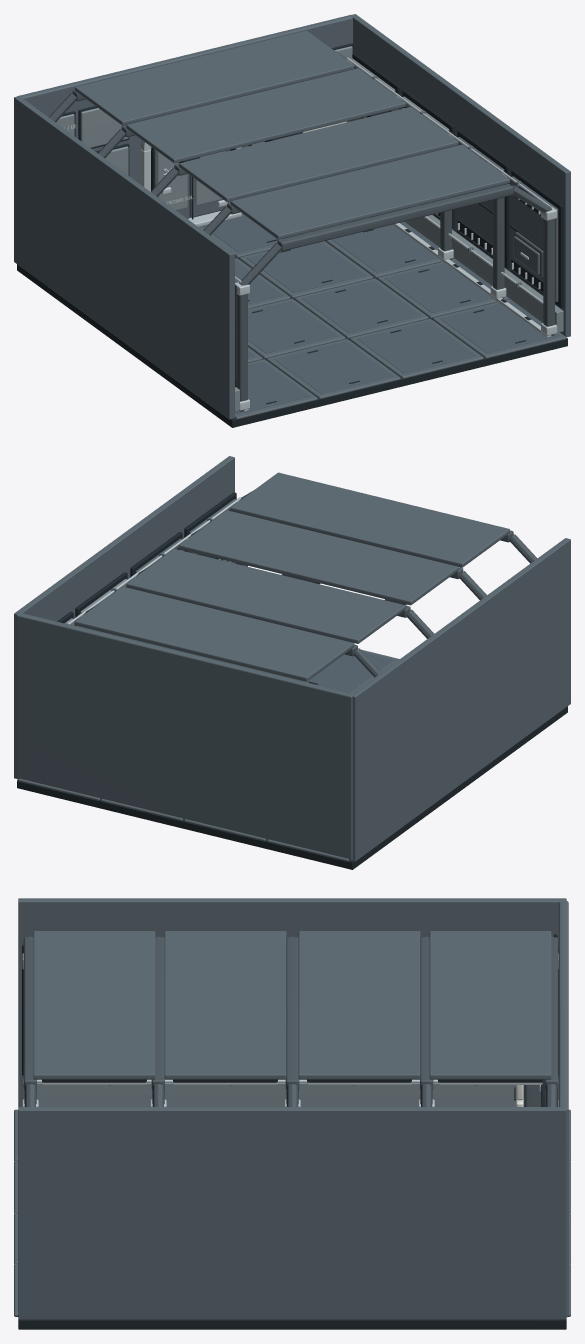
File: shell-low.glb
3 views of the same model, one above another, from view 1: azimuth 30°, elevation 25°; view 2: azimuth 150°, elevation 25°; view 3: azimuth 270°, elevation 25° (orthographic). The views are drawn at different scales.
Visible parts, largest first — view 1: shell__Graphite enamel, shell__Anodized deck alloy, shell__Coated pressure frame, shell__Recess and gasket, shell__Recessed titanium panels, shell__Satin aluminium; view 2: shell__Graphite enamel, shell__Recess and gasket, shell__Coated pressure frame, shell__Anodized deck alloy, shell__Satin aluminium; view 3: shell__Graphite enamel, shell__Recessed titanium panels, shell__Coated pressure frame, shell__Recess and gasket, shell__Satin aluminium.
Part boxes in pixels (<box>): shell__Graphite enamel: <box>14,14,570,419</box>; shell__Anodized deck alloy: <box>203,213,559,413</box>; shell__Coated pressure frame: <box>49,49,554,411</box>; shell__Recess and gasket: <box>17,43,567,427</box>; shell__Recessed titanium panels: <box>56,46,563,411</box>; shell__Satin aluminium: <box>140,57,557,411</box>; shell__Graphite enamel: <box>14,456,570,861</box>; shell__Recess and gasket: <box>17,492,567,869</box>; shell__Coated pressure frame: <box>75,490,537,682</box>; shell__Anodized deck alloy: <box>308,652,393,692</box>; shell__Satin aluminium: <box>68,497,407,643</box>; shell__Graphite enamel: <box>14,898,570,1319</box>; shell__Recessed titanium panels: <box>23,1079,558,1106</box>; shell__Coated pressure frame: <box>23,936,558,1106</box>; shell__Recess and gasket: <box>18,934,566,1329</box>; shell__Satin aluminium: <box>22,953,558,1106</box>.
Size of the model in its own units: 8.24 by 4.04 by 9.14.
